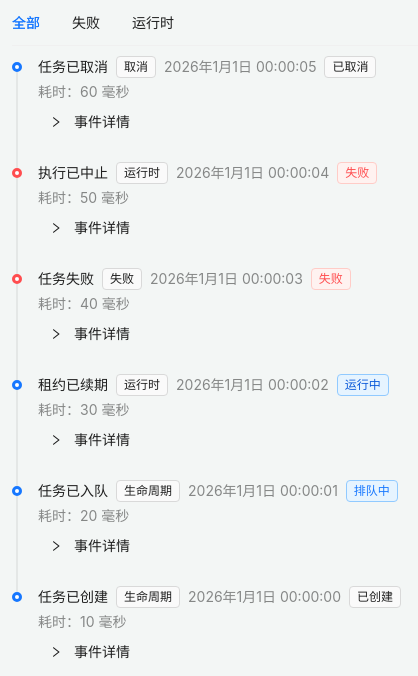
Test: research insight components › filters runtime events
What coordinates should you click on to do the following:
click the tab "运行时"
I would click on:
 (153, 23)
Its box is [132, 12, 174, 34].
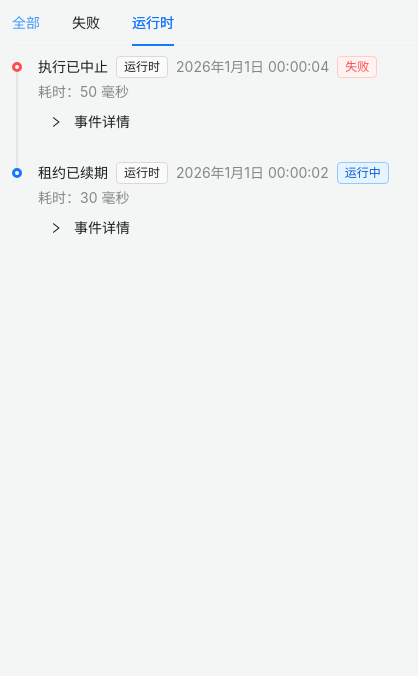
Check: the text "租约已续期" is shown, box [38, 164, 108, 180]
Check: the text "任务失败" is gone
